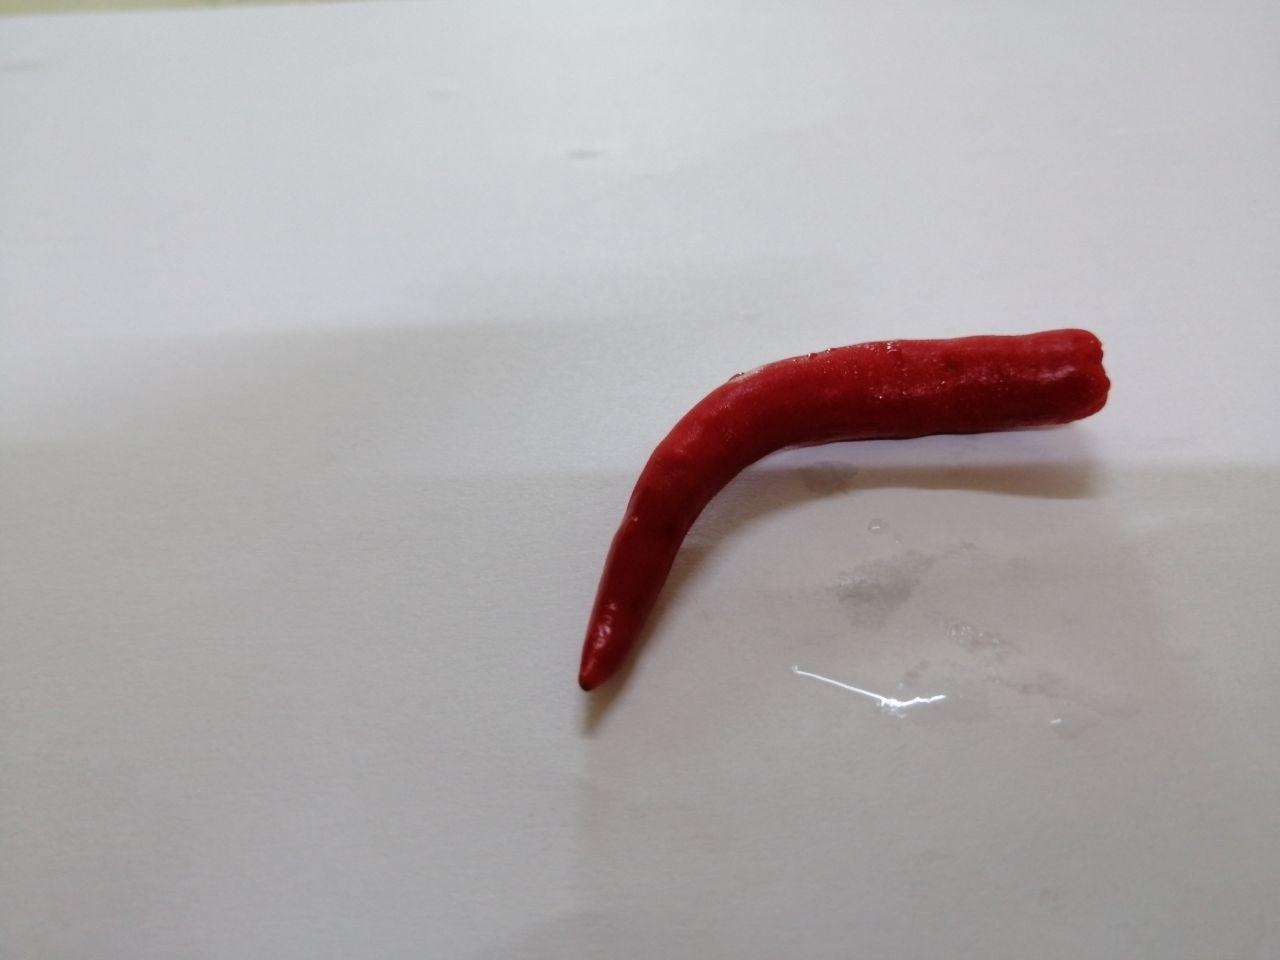lada merah: (544, 289, 1138, 725)
